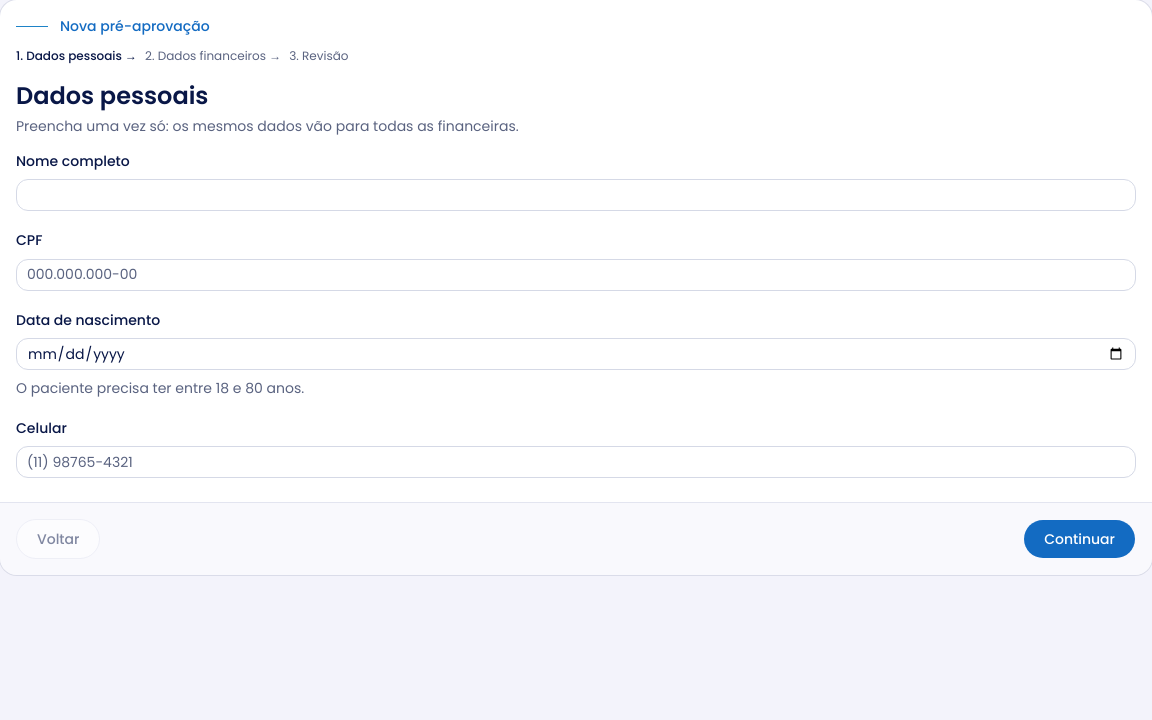
Test: RegistrationForm › shows the CPF error on blur, with the mask applied
The image size is (1152, 720).
Type "52998224726" into the field labelled "CPF" at (576, 274), box 16,258 -> 1136,290
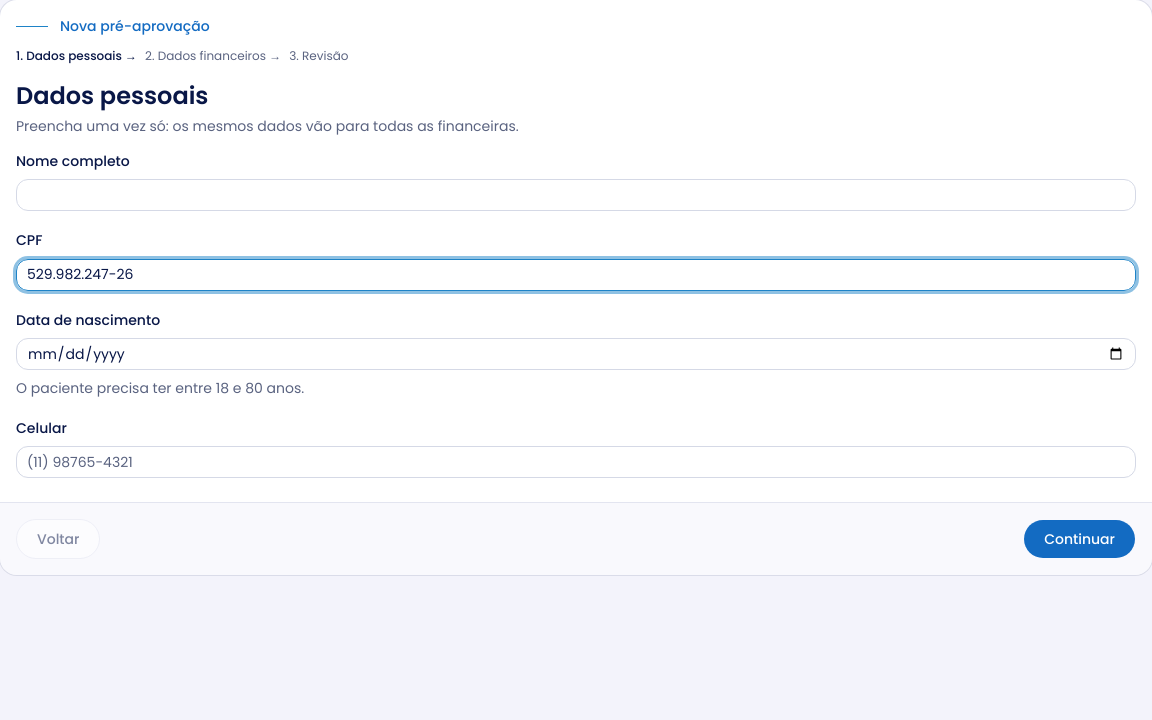
Now the field labelled "CPF" holds "529.982.247-26", box 16,258 -> 1136,290
Press Tab
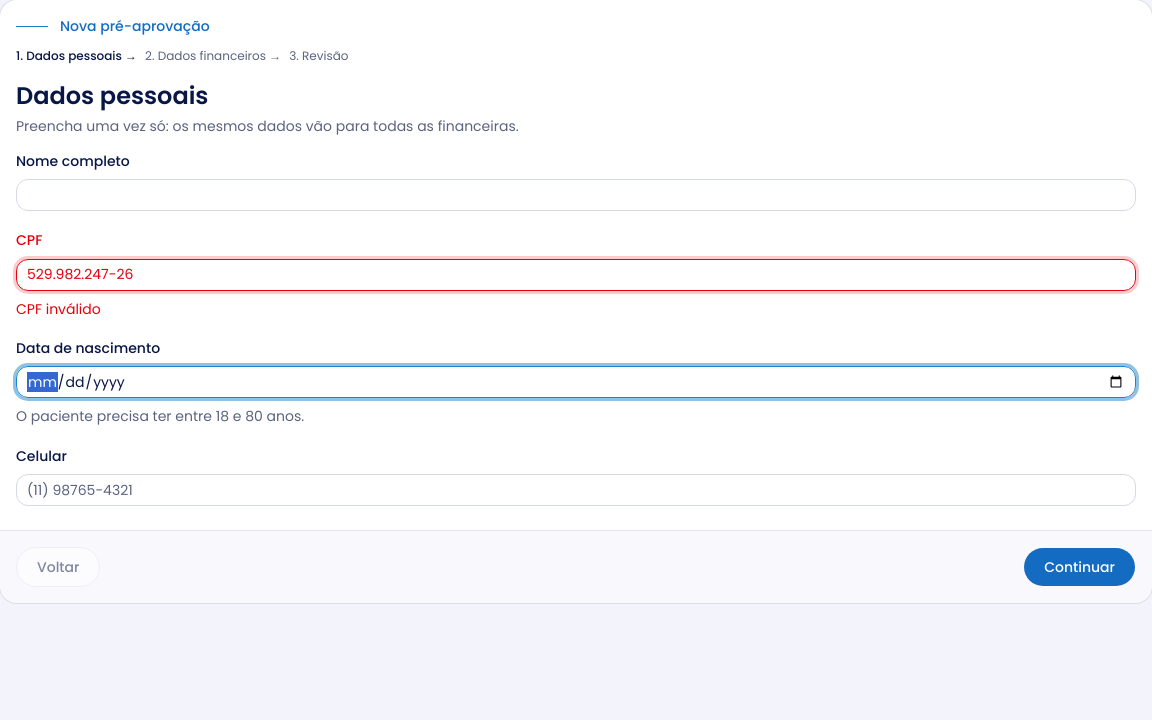
Now the text "CPF inválido" is shown, box 16,298 -> 101,318
